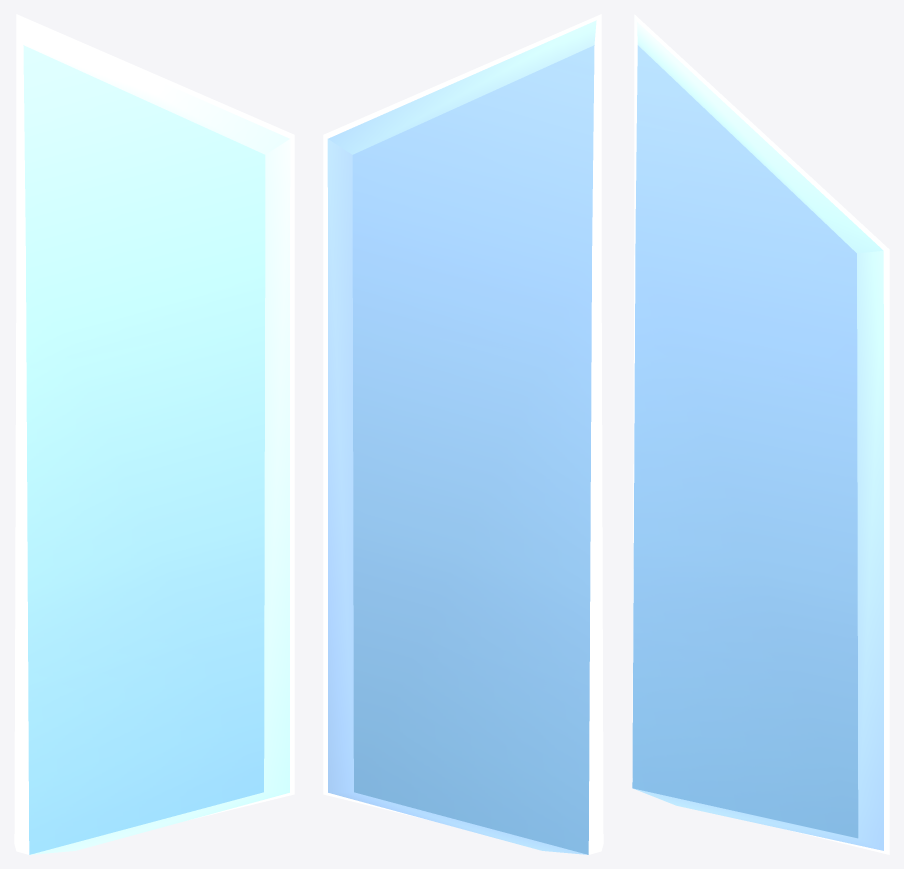
Rendered from steel_blade (6).glb.
The picture shows the model from 3 angles, left to right: view 1: azimuth 30°, elevation 25°; view 2: azimuth 150°, elevation 25°; view 3: azimuth 330°, elevation 25°; orthographic projection. The views are drawn at different scales.
Parts seen in each view (by area): view 1: steel_blade_steel.057; view 2: steel_blade_steel.057; view 3: steel_blade_steel.057.
Part boxes in pixels (bbox=[...]): steel_blade_steel.057: bbox=[14, 14, 294, 854]; steel_blade_steel.057: bbox=[323, 14, 603, 854]; steel_blade_steel.057: bbox=[632, 14, 889, 854].
Bounding box in the file's own units: 4.06 × 11.85 × 0.374.
Materials: 1 (1 with a texture image).
